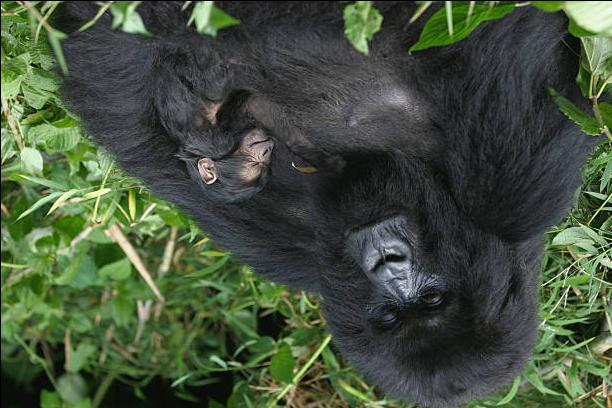goriile_montagne: (32, 0, 578, 408), (134, 24, 292, 222)
